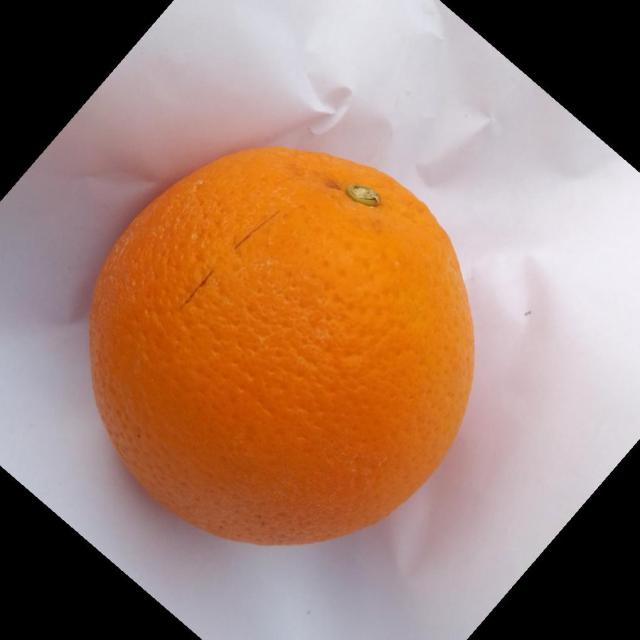fresh orange: (87, 144, 476, 546)
